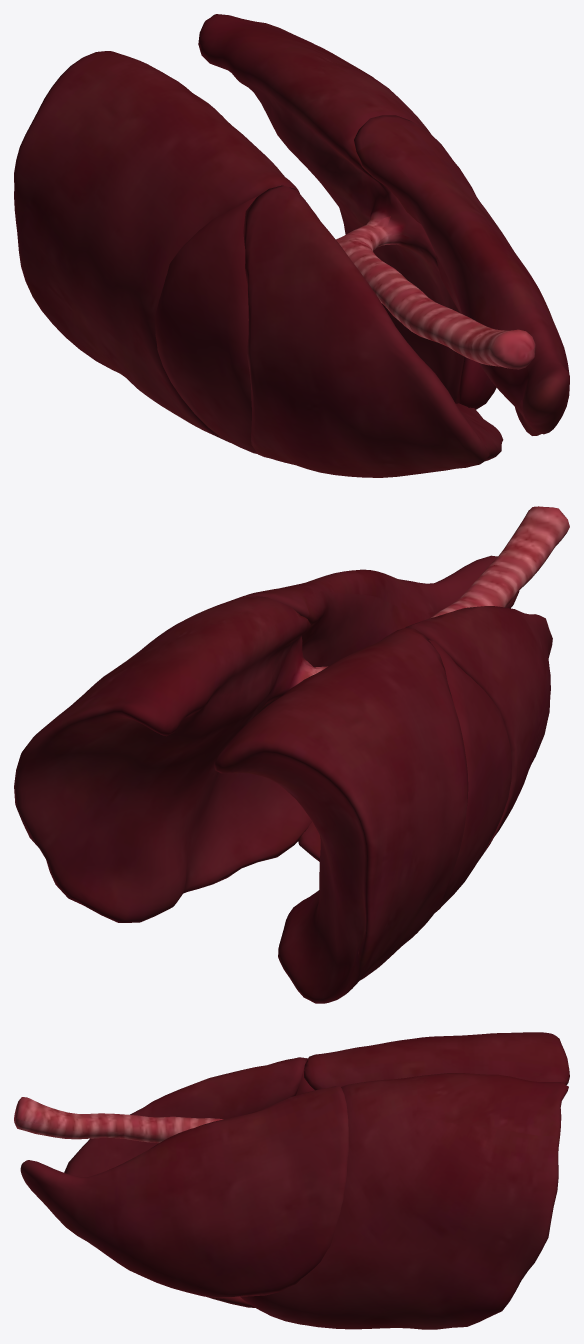
The model's file is Lungs.glb.
The picture shows the model from 3 angles, top to bottom: view 1: azimuth 30°, elevation 25°; view 2: azimuth 150°, elevation 25°; view 3: azimuth 270°, elevation 25°; orthographic projection. The views are drawn at different scales.
Visible parts, largest first — view 1: LungFull_low:Back_low, LungFull_low:Middlee_low, LungFull_low:Front_low, LungFull_low:Right_low; view 2: LungFull_low:Middlee_low, LungFull_low:Back_low, LungFull_low:Front_low, LungFull_low:Right_low; view 3: LungFull_low:Middlee_low, LungFull_low:Right_low, LungFull_low:Back_low, LungFull_low:Front_low.
Boxes of the visible parts, bbox=[...] form: LungFull_low:Back_low: bbox=[14, 51, 299, 442]; LungFull_low:Middlee_low: bbox=[155, 14, 535, 453]; LungFull_low:Front_low: bbox=[243, 185, 503, 477]; LungFull_low:Right_low: bbox=[354, 115, 569, 435]; LungFull_low:Middlee_low: bbox=[14, 506, 569, 922]; LungFull_low:Back_low: bbox=[214, 627, 468, 1003]; LungFull_low:Front_low: bbox=[298, 606, 552, 861]; LungFull_low:Right_low: bbox=[229, 555, 519, 667]; LungFull_low:Middlee_low: bbox=[14, 1058, 568, 1329]; LungFull_low:Right_low: bbox=[20, 1086, 348, 1298]; LungFull_low:Back_low: bbox=[304, 1032, 569, 1090]; LungFull_low:Front_low: bbox=[64, 1057, 305, 1307].
Bounding box in the file's own units: 112 × 98.53 × 201.
Materials: 1 (1 with a texture image).
